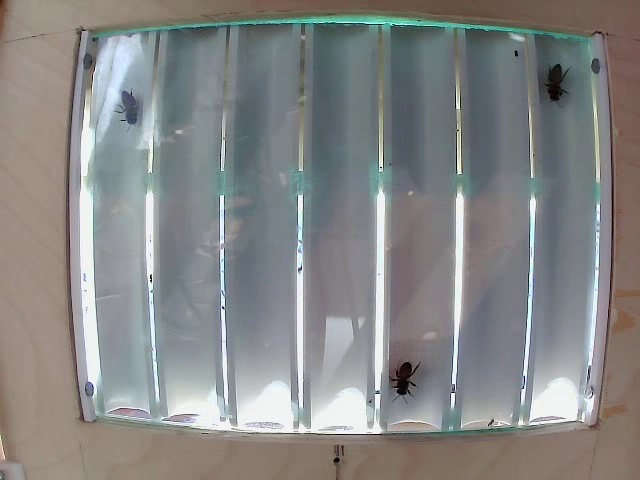bee: (107, 87, 170, 141), (534, 48, 575, 113), (385, 352, 421, 399)
